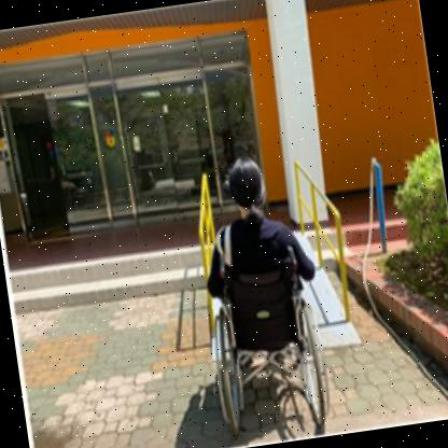wheel: (184, 155, 331, 438)
